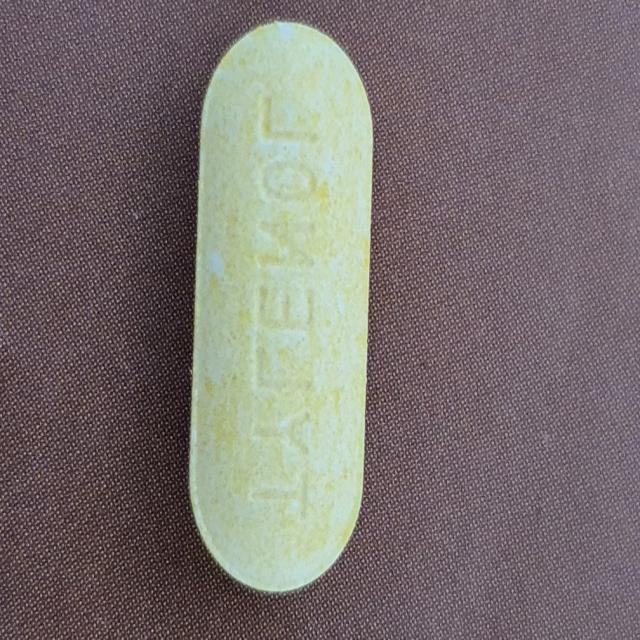pill: (172, 17, 400, 599)
